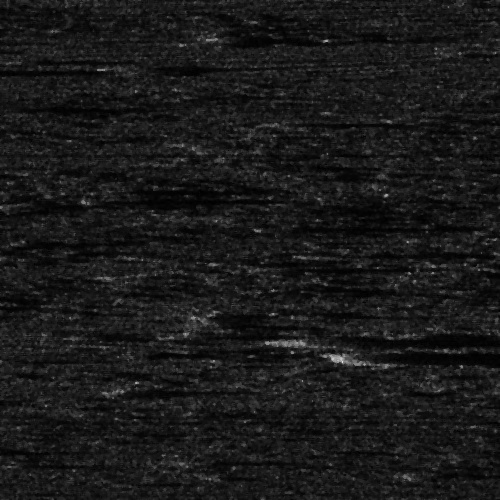object: (169, 30, 262, 43), (309, 348, 372, 363), (66, 62, 159, 69), (250, 336, 333, 343), (249, 117, 302, 124), (92, 386, 145, 393), (54, 197, 117, 202), (249, 264, 312, 269), (0, 101, 20, 110), (0, 57, 31, 62), (270, 219, 281, 232), (194, 457, 205, 462)
shadow: (340, 348, 500, 363), (276, 219, 450, 232), (215, 30, 339, 43), (292, 336, 500, 343), (0, 101, 142, 110), (112, 62, 272, 69), (86, 197, 287, 202), (276, 117, 406, 124), (0, 65, 98, 74), (119, 386, 234, 393), (281, 264, 410, 269), (199, 457, 317, 462), (4, 57, 118, 62), (314, 250, 357, 253)
